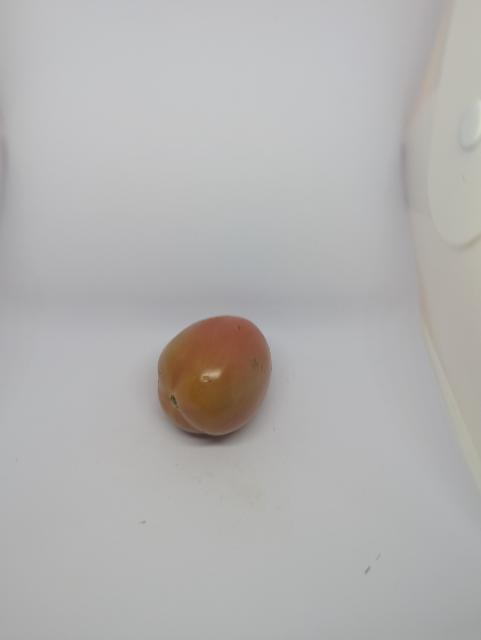turning: (147, 307, 276, 445)
